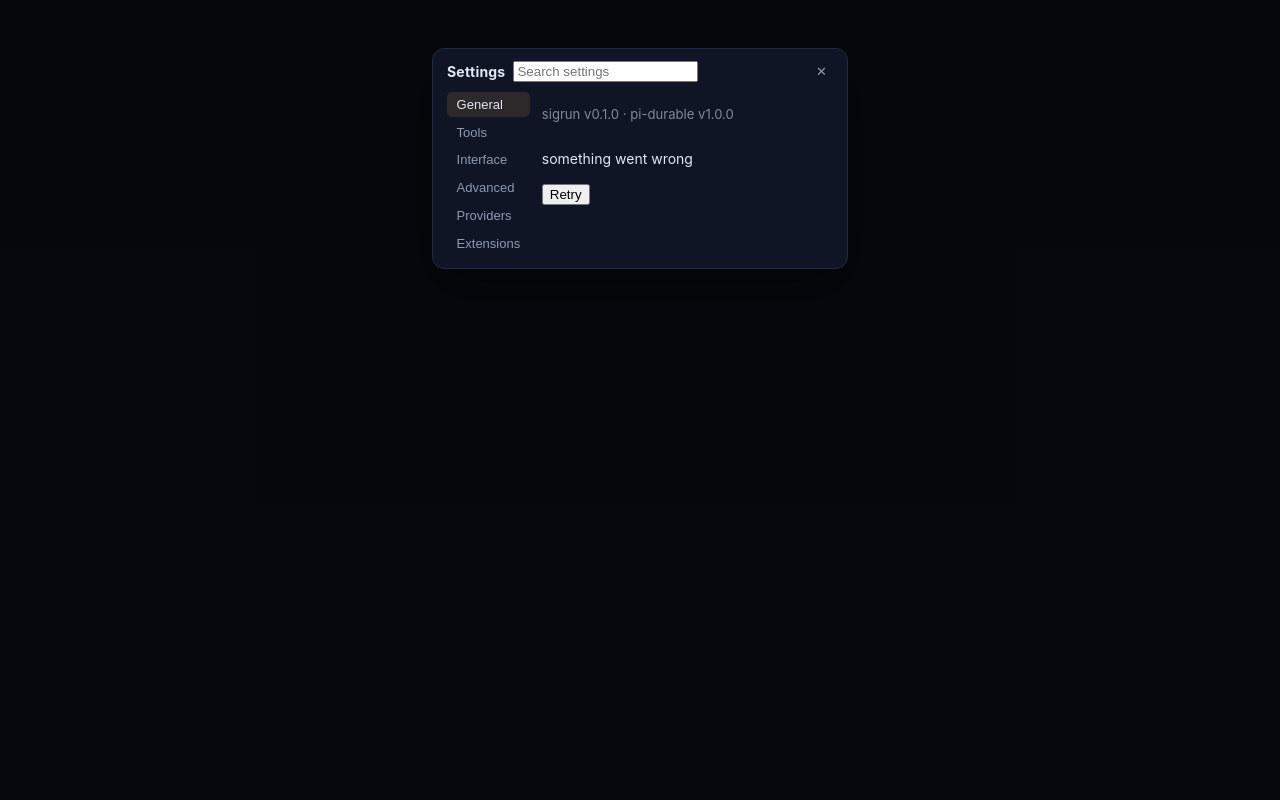
SettingsPanel Providers section › a rejected save surfaces the server's error and keeps the typed key (no silent success)
The image size is (1280, 800).
Click the button "Providers" at (488, 215), box [447,203,530,228]
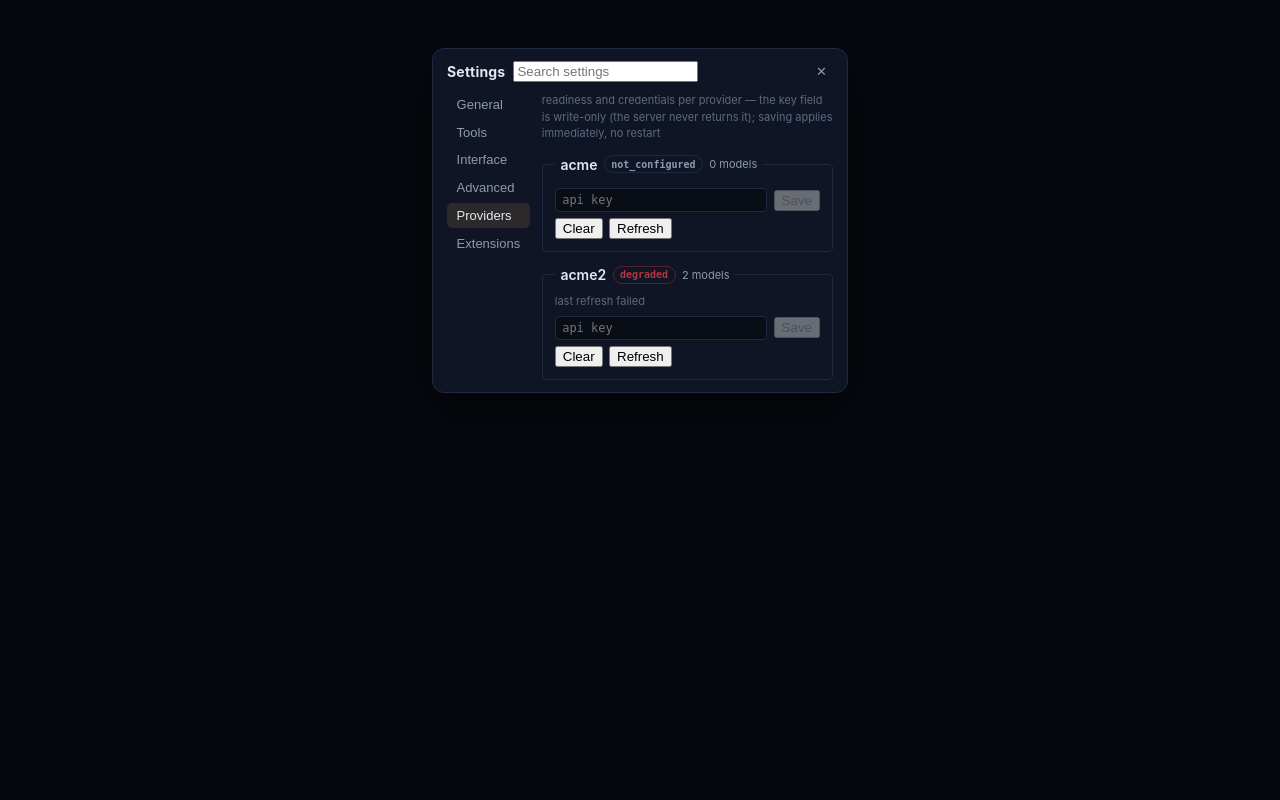
Type "acme-test-key" into the password field with placeholder "api key" below "not_configured" at (661, 200), box [555,188,767,212]
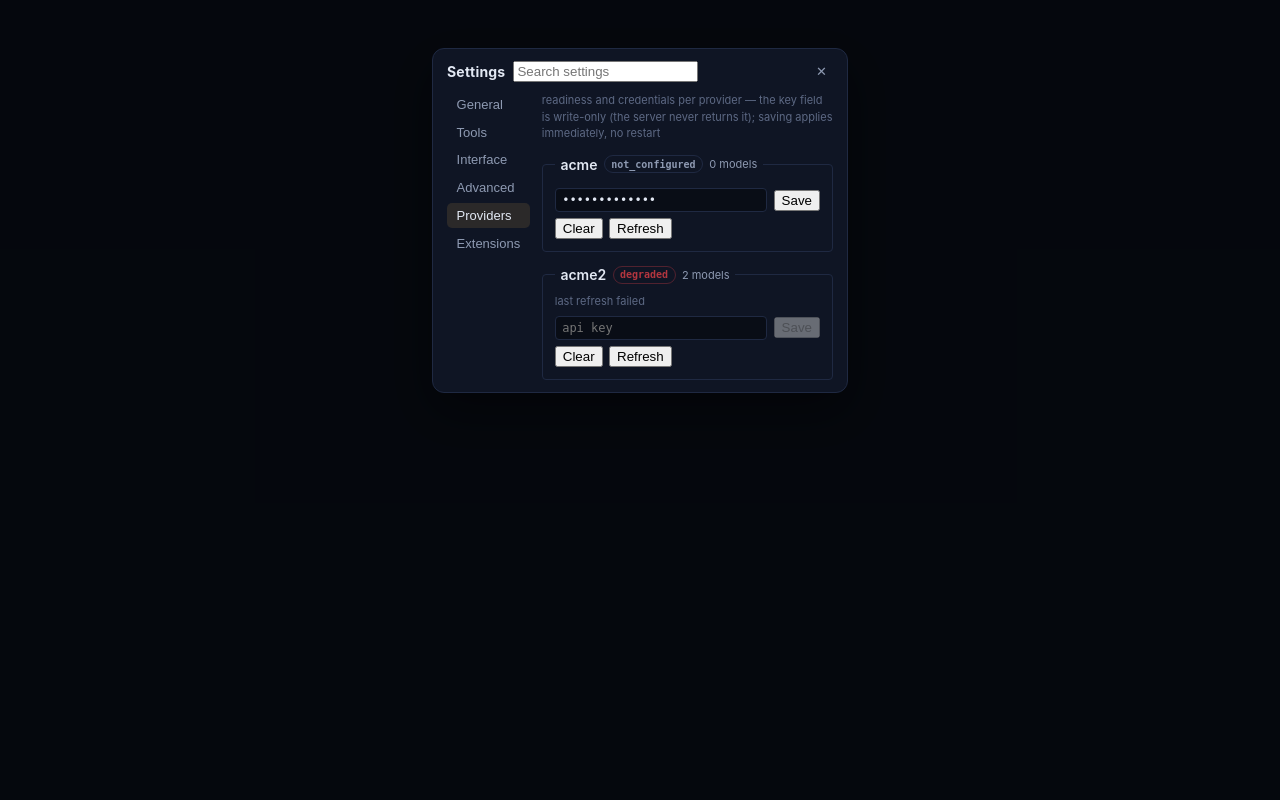
Click the button "Save" below "not_configured" at (797, 200), box [774,190,820,211]
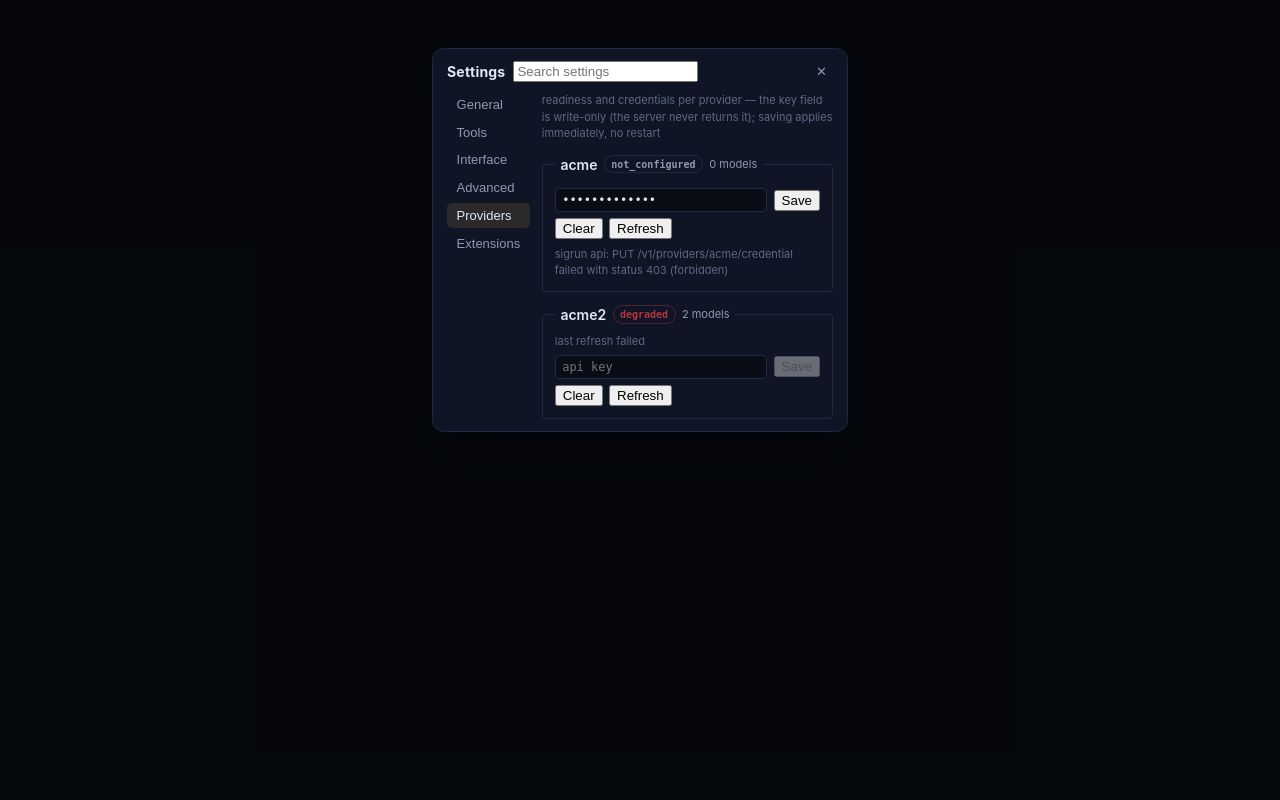
Expected: the text "not_configured" is shown, [604,155,703,173]
Expected: the message shows "forbidden", [555,247,793,277]
